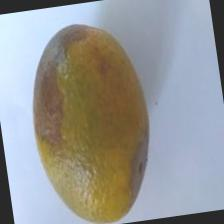Orange Rotten: (15, 9, 168, 224)
